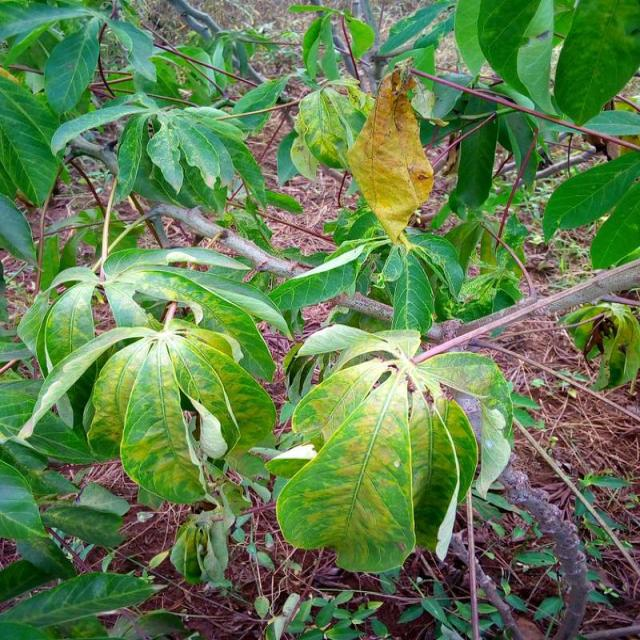cassava leaf: (272, 326, 514, 575), (345, 62, 434, 248)
